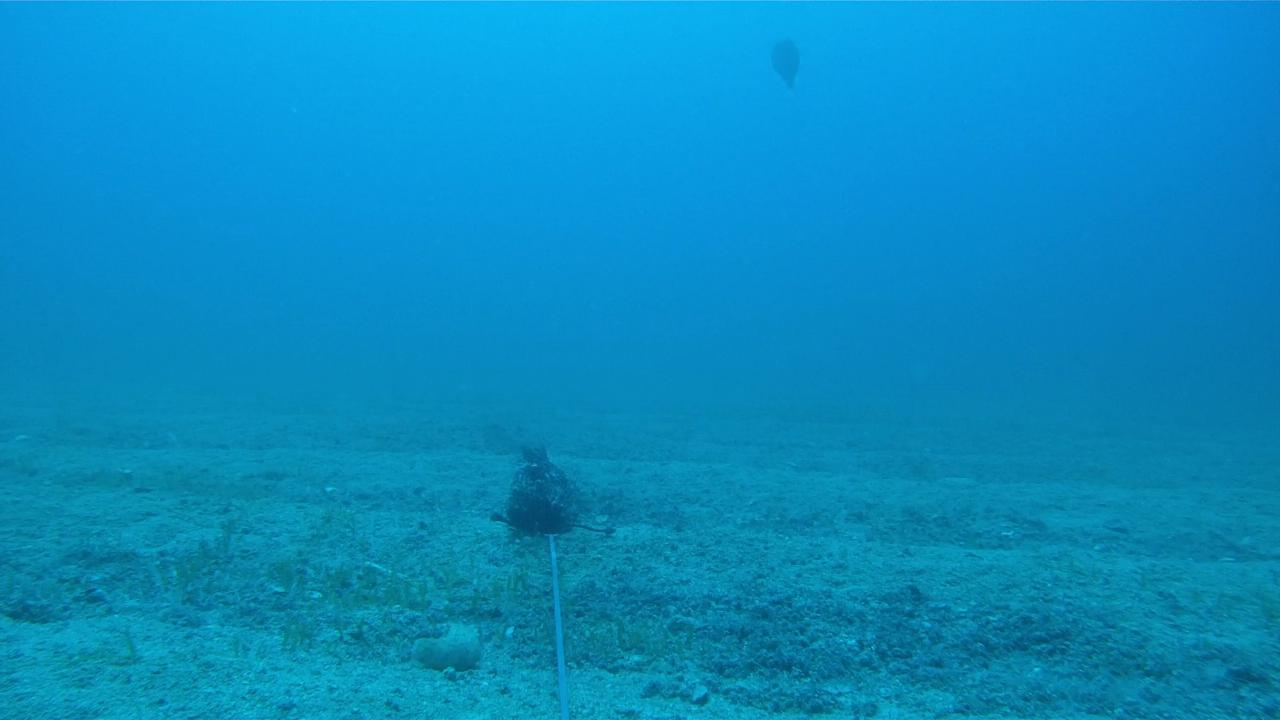bothus: (760, 34, 806, 96)
